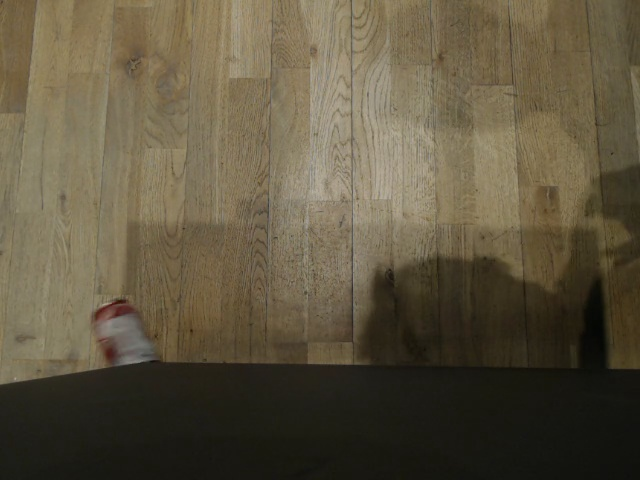cola: (91, 297, 155, 364)
